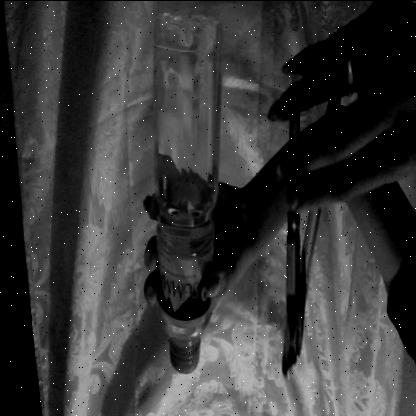Plastic Bottle: (113, 0, 251, 385)
